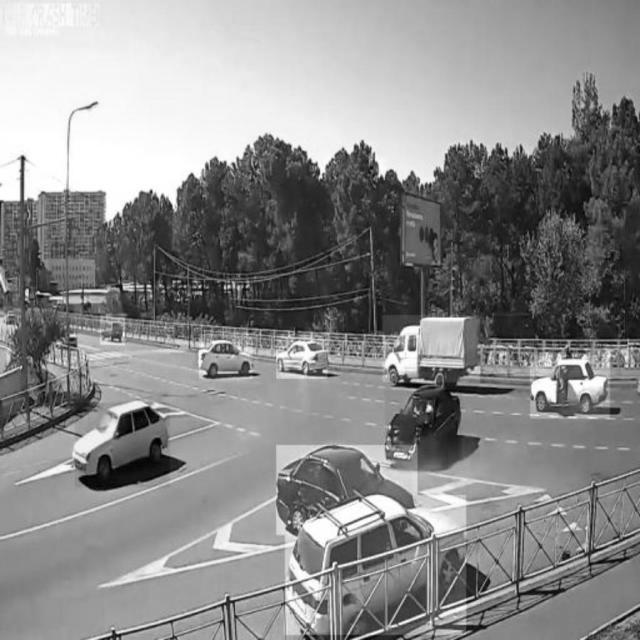vehicle: (285, 496, 465, 636), (277, 445, 418, 535), (75, 403, 169, 487), (382, 315, 480, 382), (386, 390, 463, 466), (531, 355, 611, 419), (199, 334, 253, 379), (277, 334, 328, 379), (100, 314, 125, 344)
